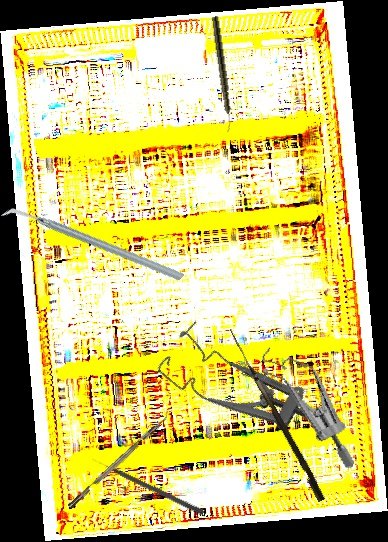Chopper: (0, 152, 185, 338), (63, 408, 173, 509)
Handpiece: (209, 15, 236, 134)
Hook Surgical: (221, 328, 329, 503)
Pusher: (90, 455, 206, 516)
Speculum: (152, 306, 343, 483), (216, 337, 384, 472)
